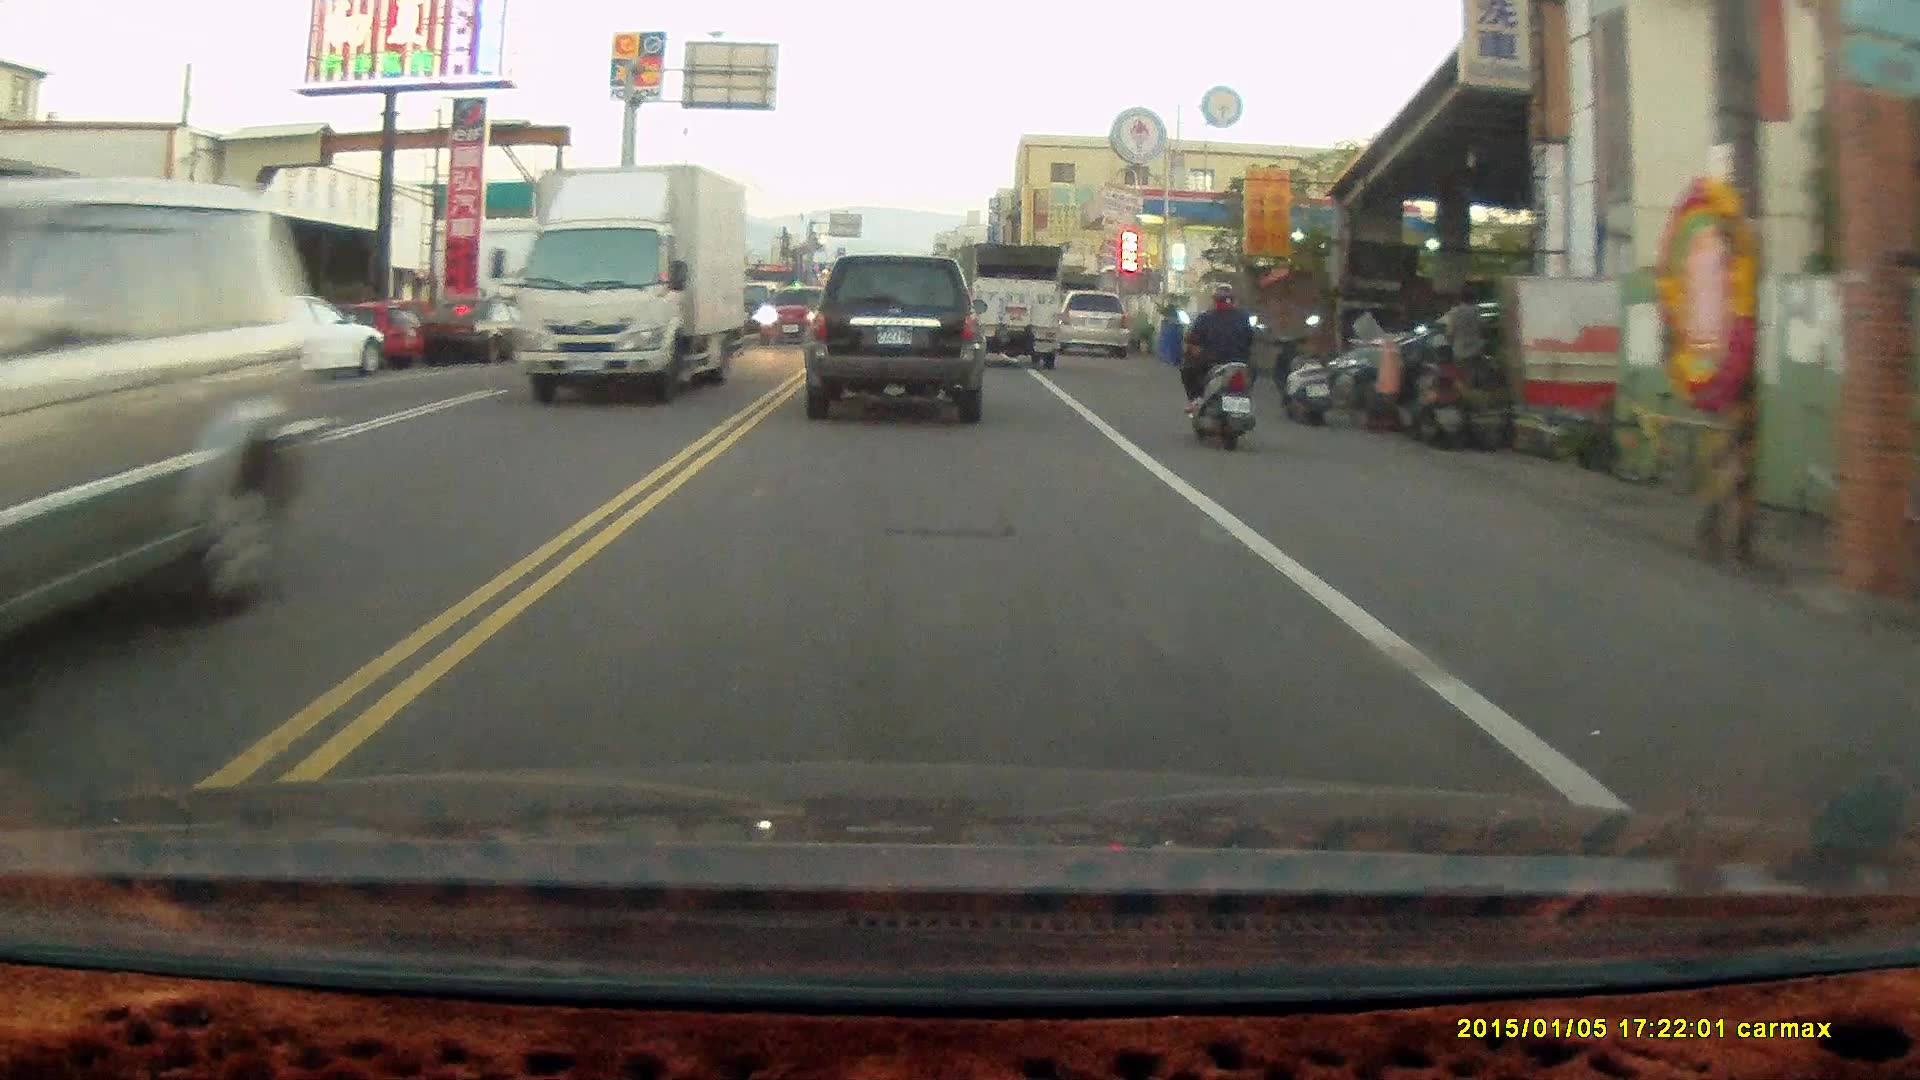pedestrian: (1441, 285, 1489, 416)
rider: (1174, 278, 1260, 451)
vehicle: (1, 176, 357, 678), (515, 158, 753, 405), (800, 249, 988, 422), (970, 237, 1063, 365), (1054, 285, 1131, 357)
